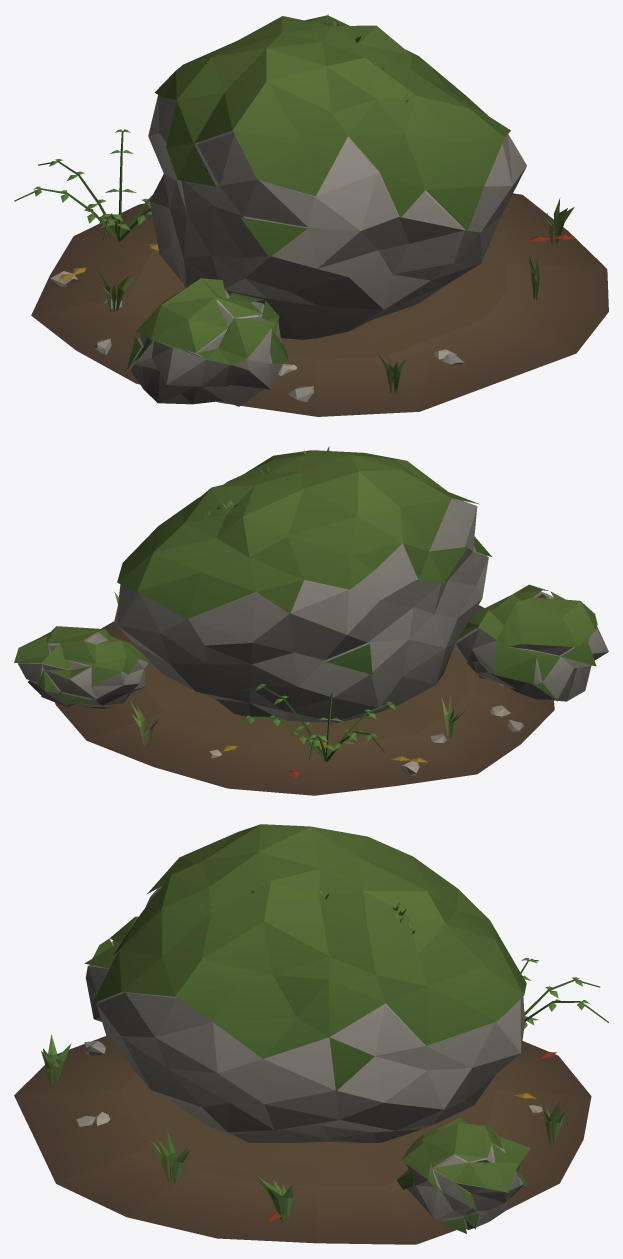
File: rock_moss_boulder.glb
3 renders of one model, top to bottom at view 1: azimuth 30°, elevation 25°; view 2: azimuth 150°, elevation 25°; view 3: azimuth 270°, elevation 25°, orthographic. The views are drawn at different scales.
Visible parts, largest first — view 1: moss_rock_01; view 2: moss_rock_01; view 3: moss_rock_01.
Boxes of the visible parts, x1=… form: moss_rock_01: x1=14, y1=14, x2=608, y2=416; moss_rock_01: x1=14, y1=446, x2=608, y2=795; moss_rock_01: x1=14, y1=824, x2=608, y2=1244.
Bounding box in the file's own units: 2.02 × 0.9842 × 2.
